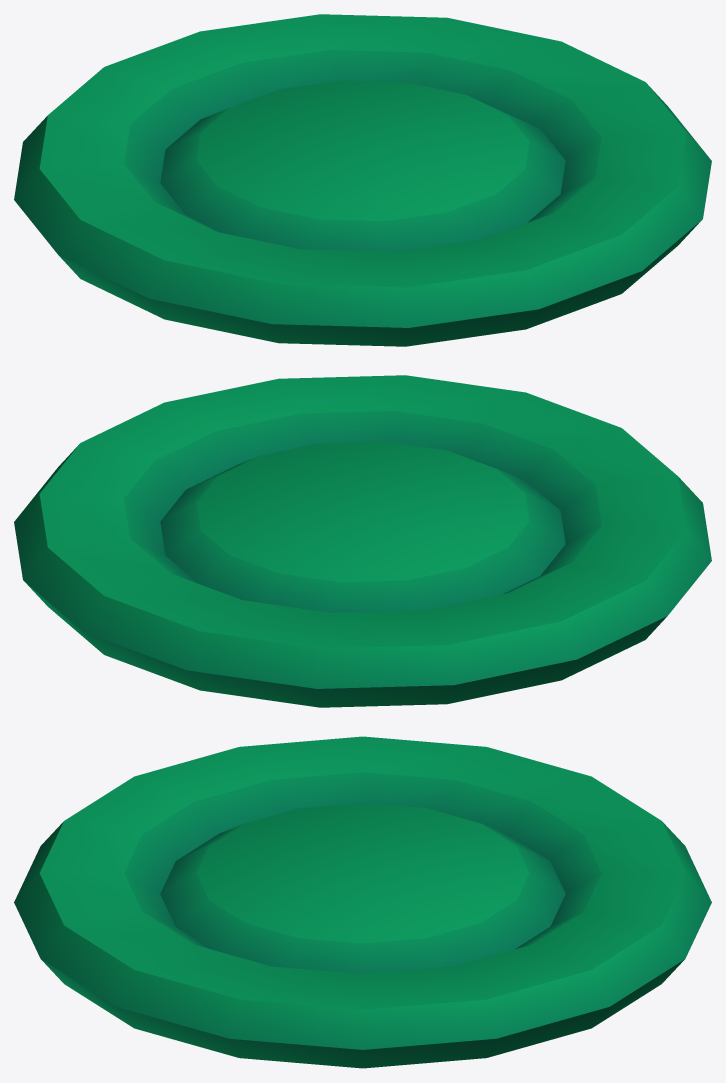
The model's file is token-green.glb.
The picture shows the model from 3 angles, top to bottom: view 1: azimuth 30°, elevation 25°; view 2: azimuth 150°, elevation 25°; view 3: azimuth 270°, elevation 25°; orthographic projection.
Visible parts, largest first — view 1: token_green; view 2: token_green; view 3: token_green.
Boxes of the visible parts, left/top/right/bottom form: token_green: left=14, top=14, right=711, bottom=346; token_green: left=14, top=375, right=711, bottom=707; token_green: left=14, top=736, right=711, bottom=1068.
Size of the model in its own units: 1.08 by 0.1 by 1.08.
1 material, 1 textured.
